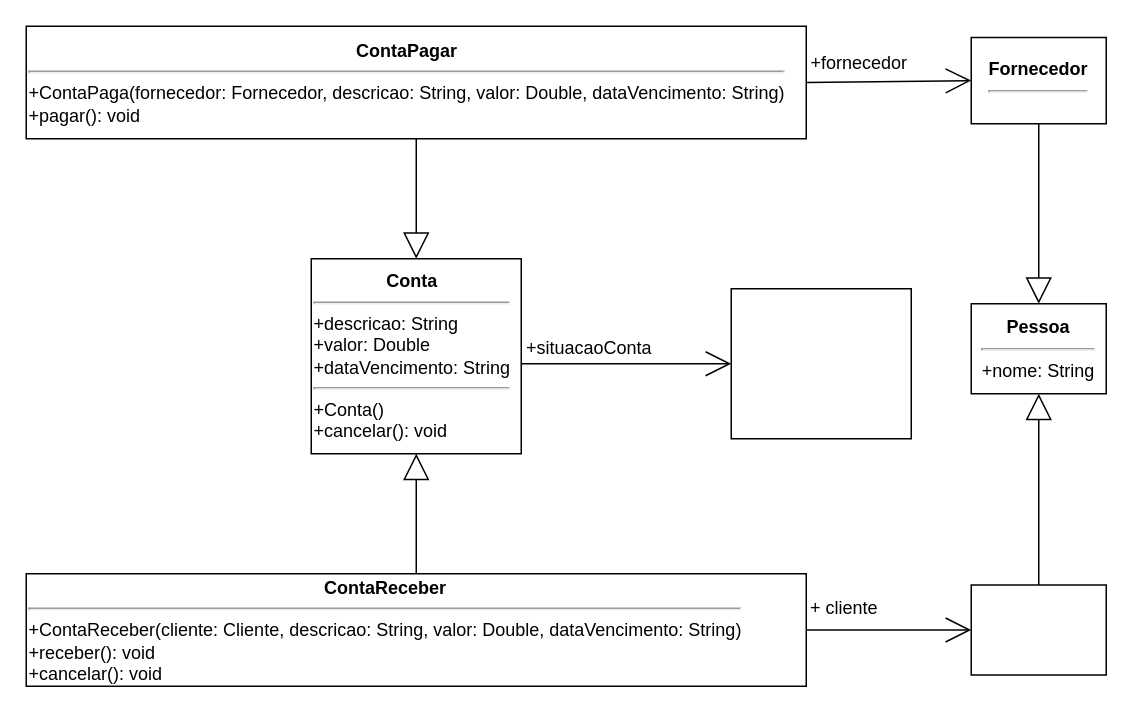
The diagram is 1133 pixels wide and 713 high, and some of its shapes have lost their labels. Each missing label, with the box of its shape:
<<enumeration>> SituacaoConta +PENDENTE +PAGA +CANCELADA: (730, 287, 911, 439)
Cliente: (970, 584, 1106, 675)
